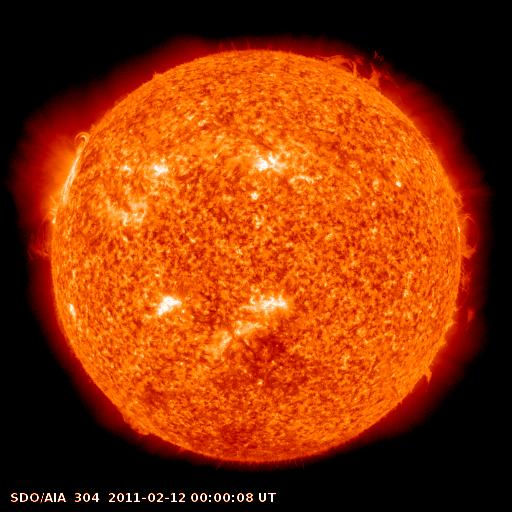prominence: (315, 32, 401, 100), (105, 391, 169, 450), (441, 181, 487, 262), (439, 261, 492, 327), (13, 215, 64, 268), (403, 341, 447, 398)
